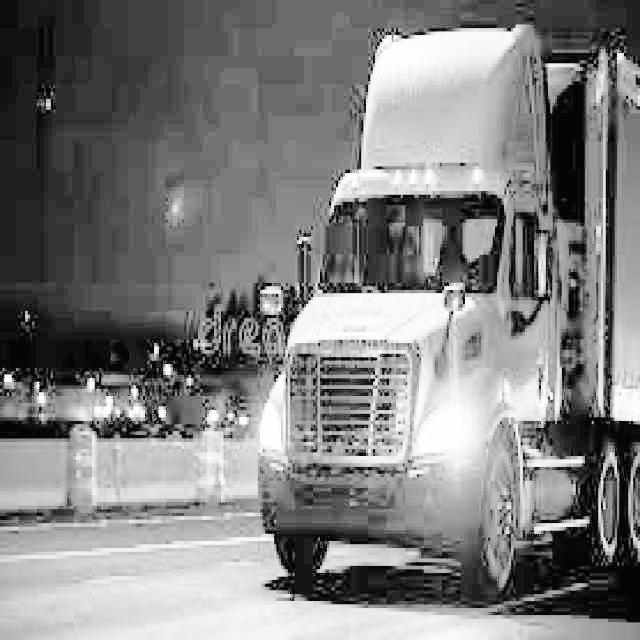Truck: (256, 21, 638, 601)
